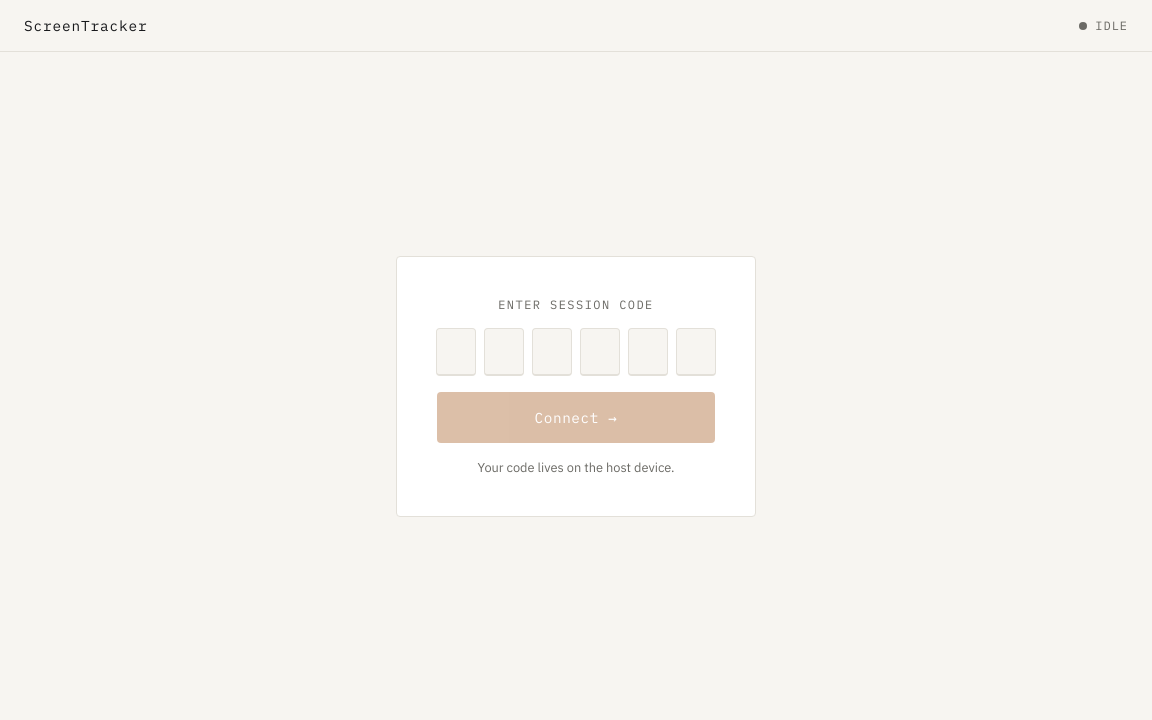
Test case: App › shows a human-readable error when the session is already claimed
Type "X" into the field named "Digit 1 of 6" at (456, 352), box [436,328,476,376]
Type "7" into the field named "Digit 2 of 6" at (504, 352), box [484,328,524,376]
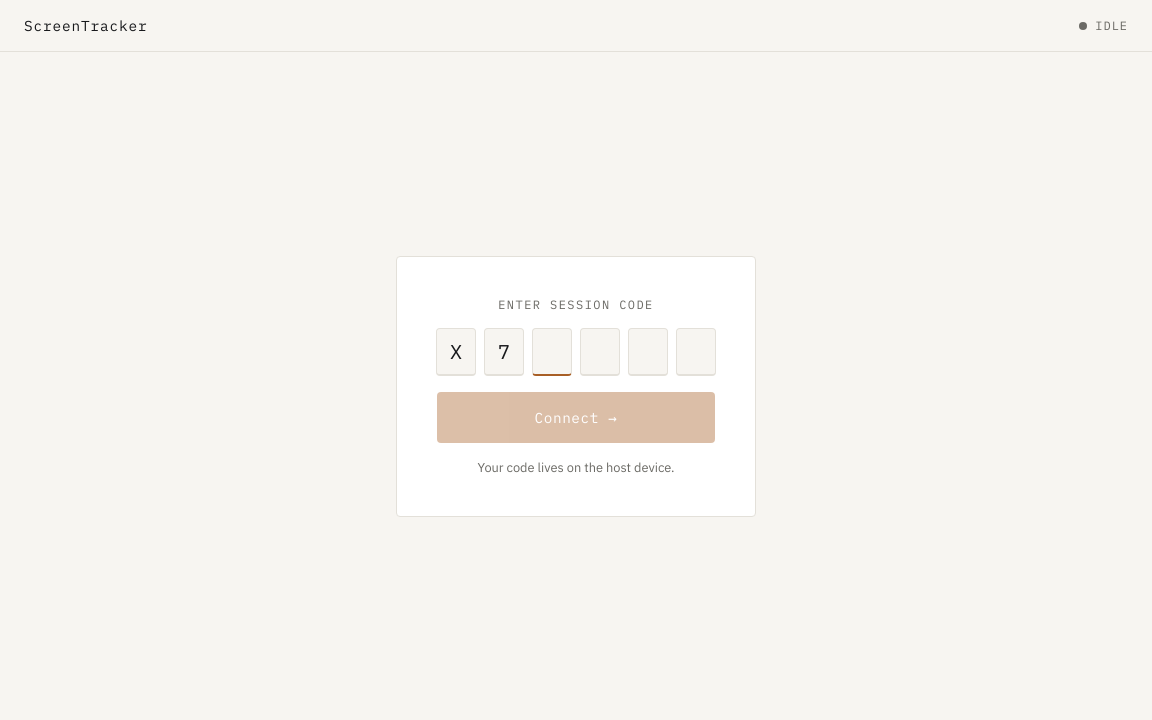
Type "K" into the field named "Digit 3 of 6" at (552, 352), box [532,328,572,376]
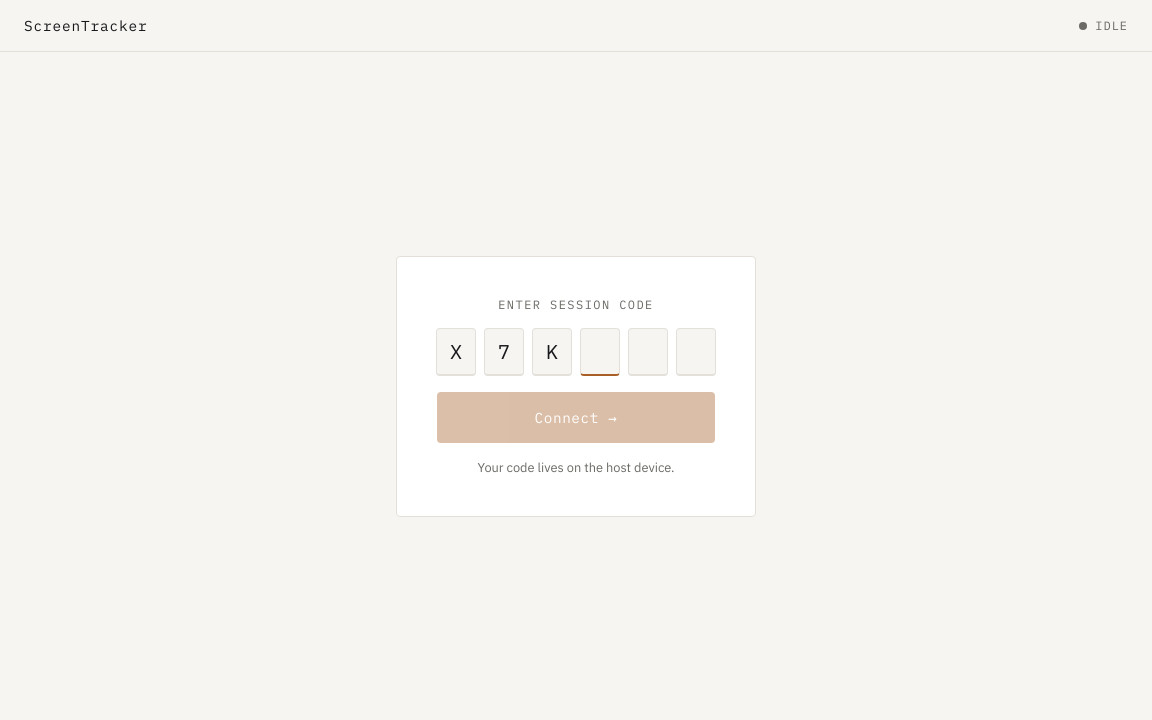
Type "2" into the field named "Digit 4 of 6" at (600, 352), box [580,328,620,376]
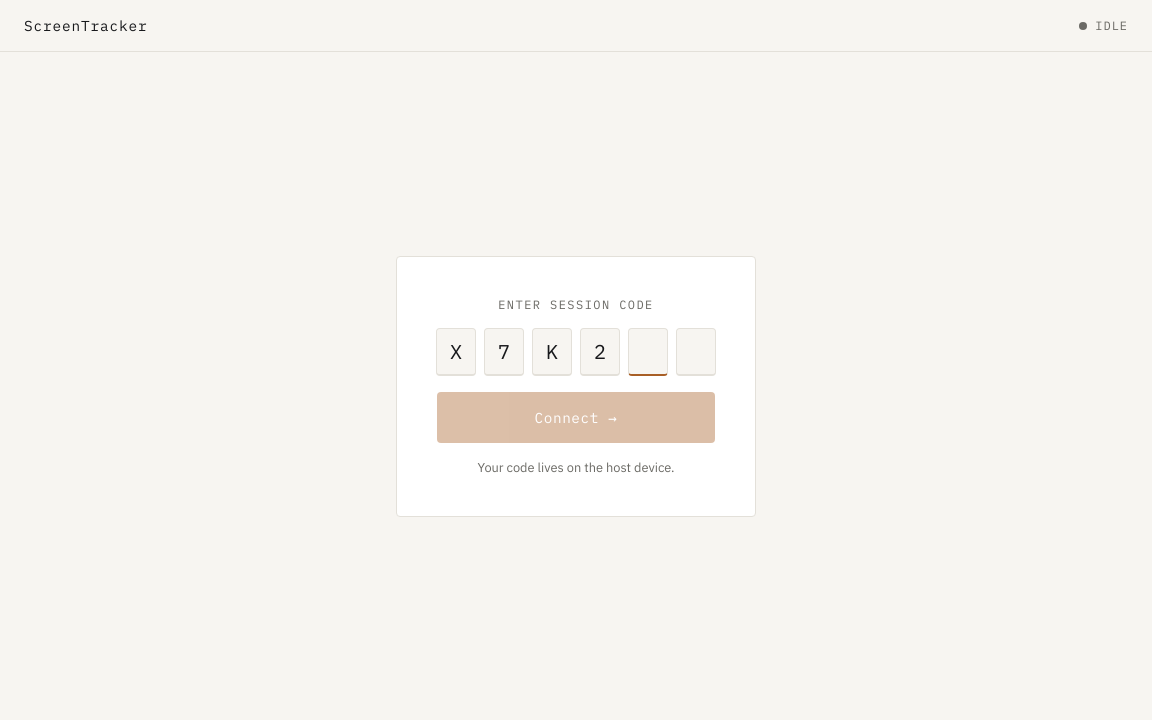
Type "M" into the field named "Digit 5 of 6" at (648, 352), box [628,328,668,376]
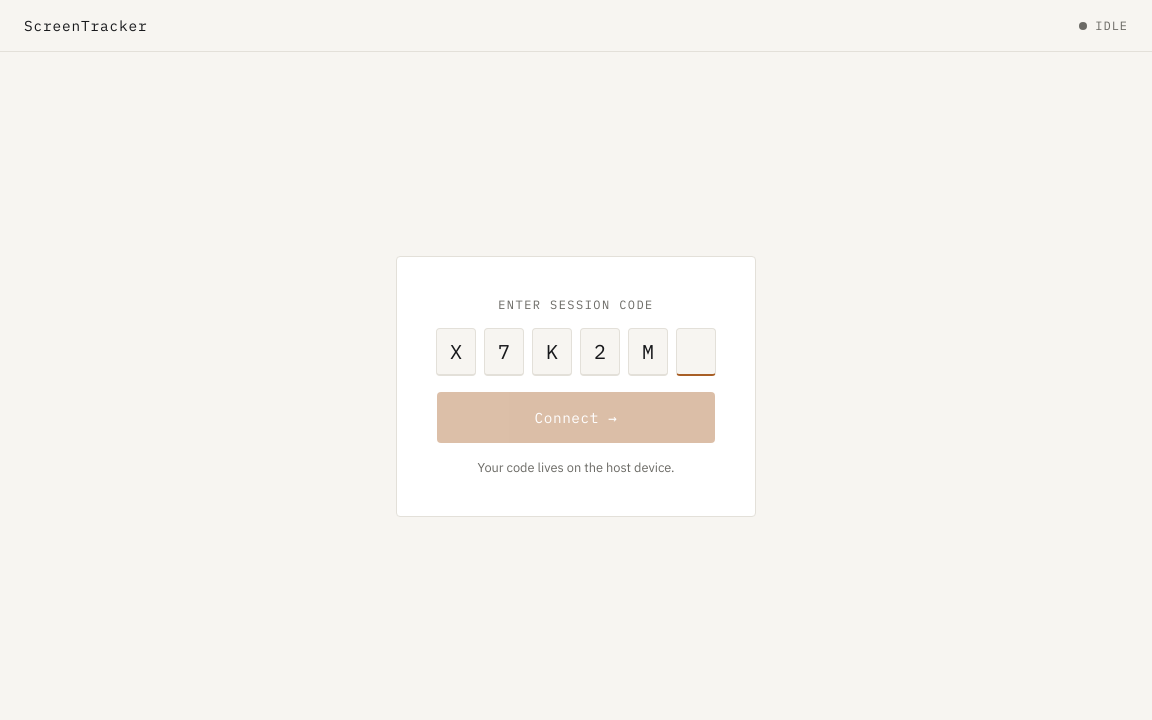
Type "9" into the field named "Digit 6 of 6" at (696, 352), box [676,328,716,376]
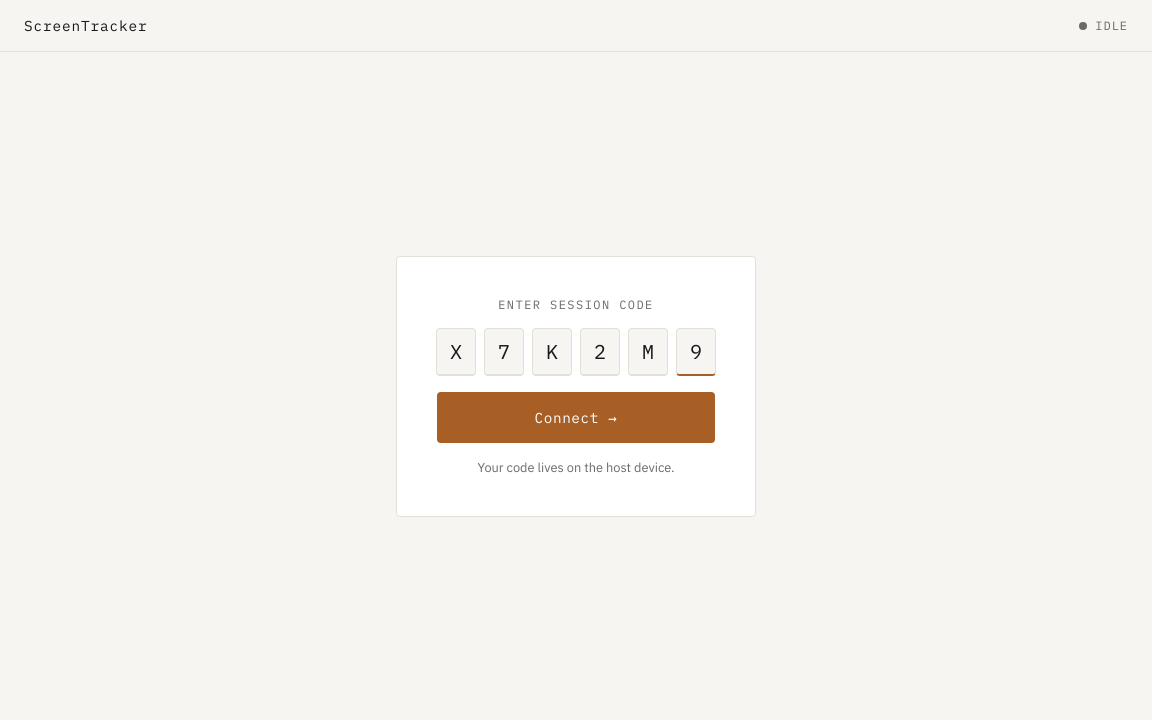
Click the button "Connect →" at (576, 417), box [437,392,715,442]
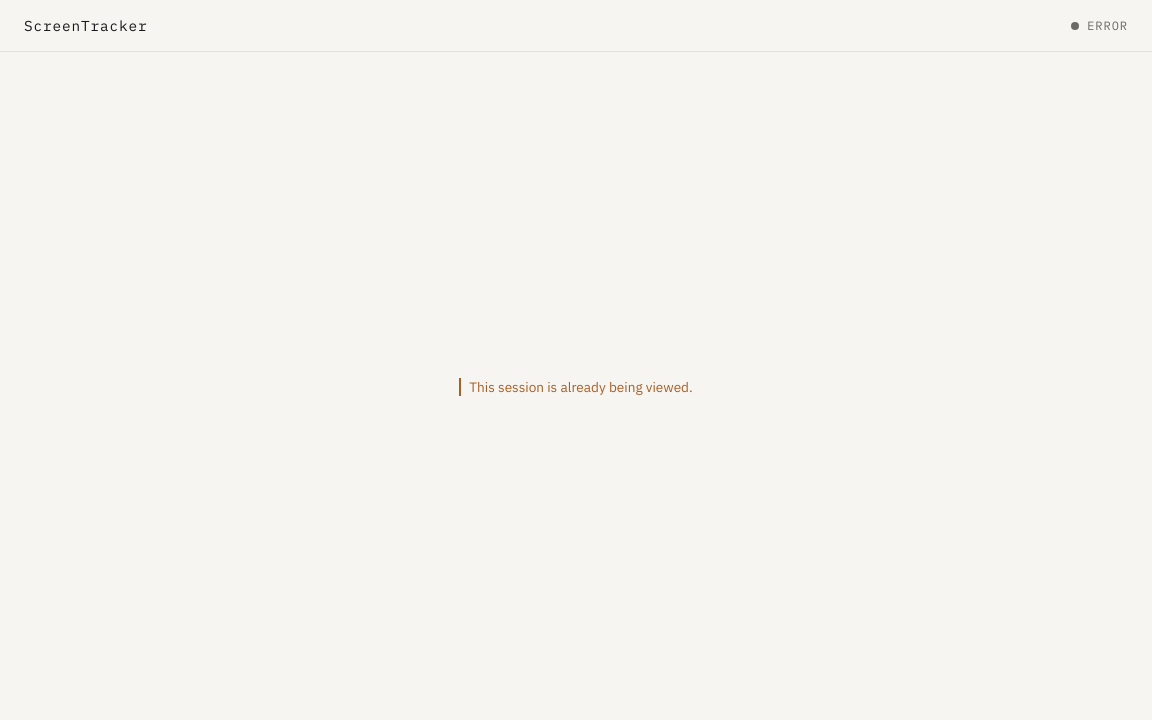
Check: the message reads "This session is already being viewed.", box [469,378,693,396]
